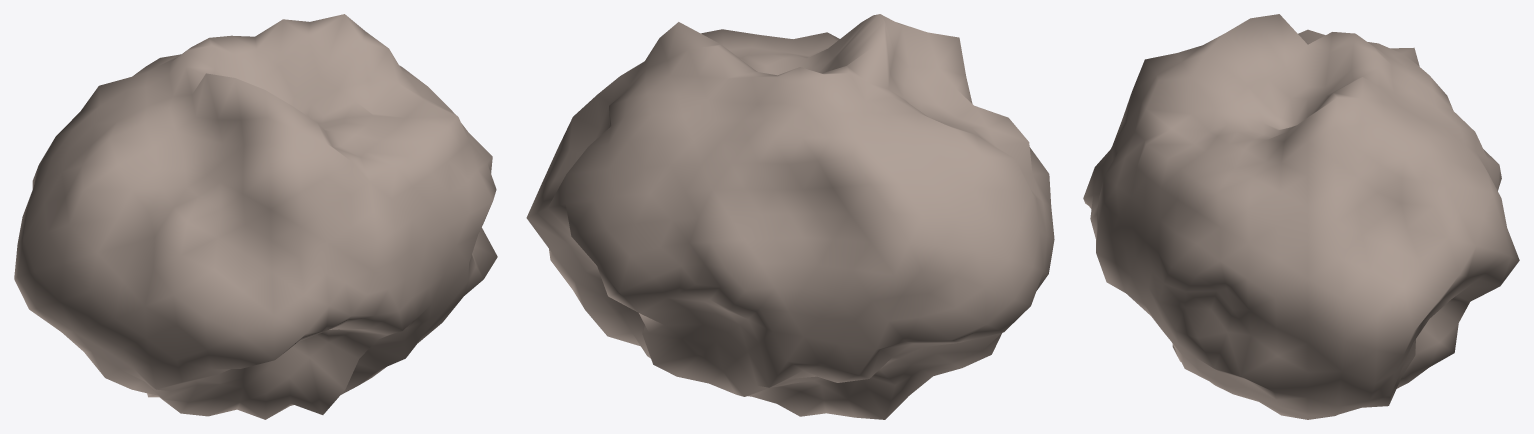
The model's file is Adrastea.fbx.
The picture shows the model from 3 angles, left to right: view 1: azimuth 30°, elevation 25°; view 2: azimuth 150°, elevation 25°; view 3: azimuth 270°, elevation 25°; orthographic projection. The views are drawn at different scales.
Visible parts, largest first — view 1: AdrasteaSurface; view 2: AdrasteaSurface; view 3: AdrasteaSurface.
Boxes of the visible parts, box(x1,y1,x2,y2) form: AdrasteaSurface: box(14, 14, 497, 419); AdrasteaSurface: box(526, 14, 1054, 419); AdrasteaSurface: box(1083, 14, 1519, 419).
Size of the model in its own units: 2.56 by 1.89 by 2.19.
